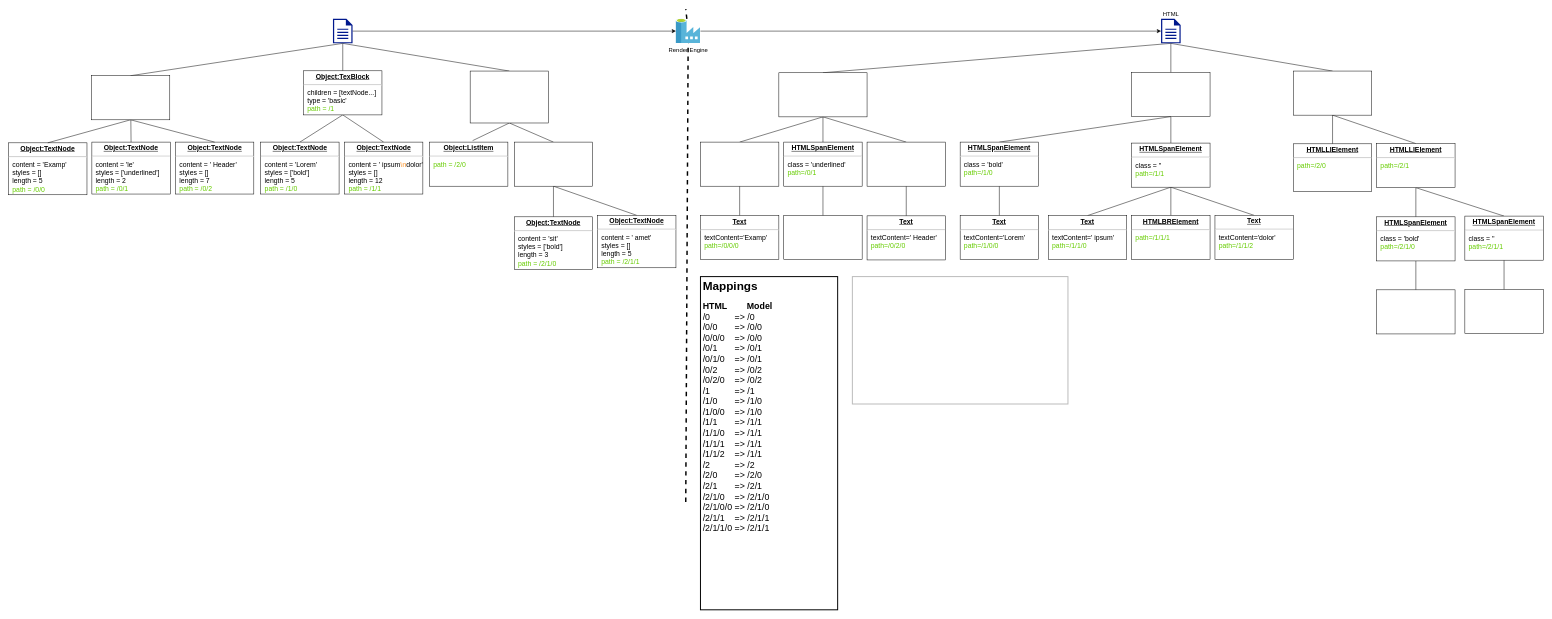
This 1552x619 diagram has some shape labels left out. The centre of each missing label's shape, as x and y in pixels:
Examp le Header Lorem ipsum dolor sit amet: point 960,340
HTMLDivElement path=/1: point 1170,94
HTMLHeadingElement path=/0: point 822,94
HTMLSpanElement class = '' path=/0/0: point 739,164
HTMLSpanElement class = '' path=/0/2: point 906,164
HTMLUListElement path=/2: point 1332,93
Model: point 342,31
Object:List children = [listItem...] styles = [] type = 'unordered' path = /2: point 509,97
Object:List path = /2/1: point 553,164
Object:TexBlock children = [textNode...] type = 'header' path = /0: point 130,97
Text textContent=' amet' path=/2/1/1/0: point 1503,311
Text textContent='le' path=/0/1/0: point 822,237
Text textContent='sit' path=/2/1/0/0: point 1415,311
